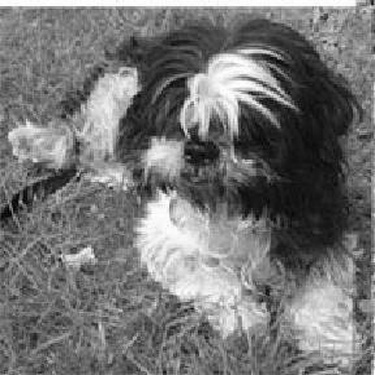dog: (6, 18, 368, 369)
